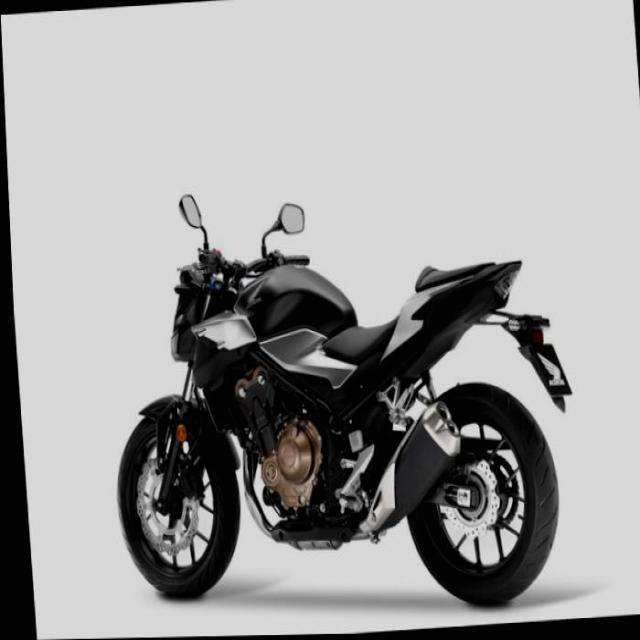CB500F: (90, 167, 583, 636)
